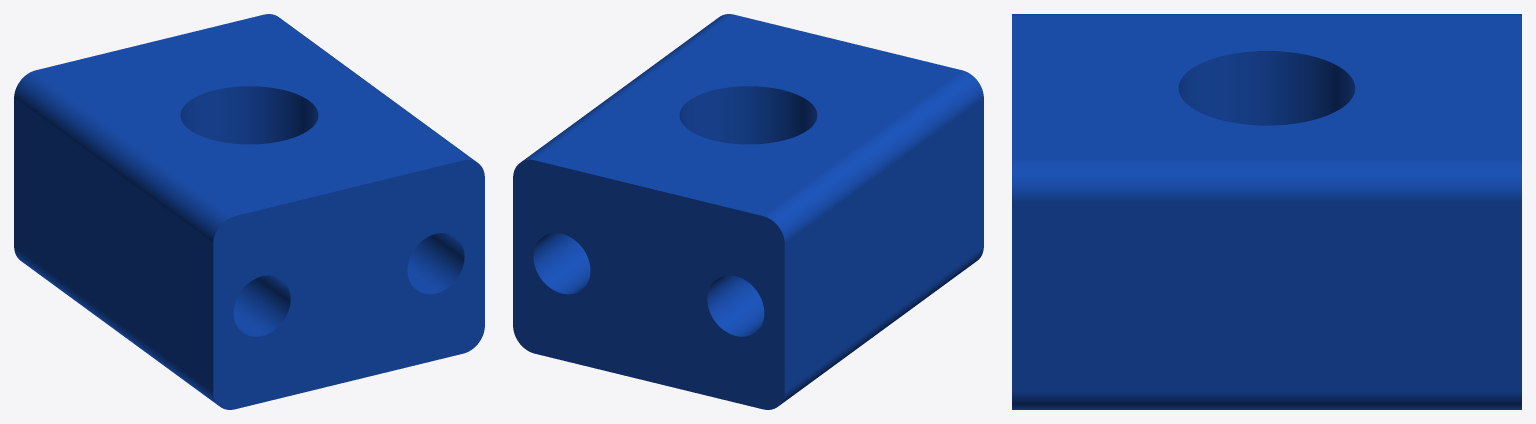
Rendered from 04_bloque_c.glb.
3 views of the same model, side by side, from view 1: azimuth 30°, elevation 25°; view 2: azimuth 150°, elevation 25°; view 3: azimuth 270°, elevation 25° (orthographic). The views are drawn at different scales.
Visible parts, largest first — view 1: 04_bloque_c; view 2: 04_bloque_c; view 3: 04_bloque_c.
Part boxes in pixels (left/top/right/bottom): 04_bloque_c: left=14, top=14, right=484, bottom=409; 04_bloque_c: left=513, top=14, right=983, bottom=409; 04_bloque_c: left=1012, top=14, right=1521, bottom=409.
Bounding box in the file's own units: 50 × 34 × 63.5.
